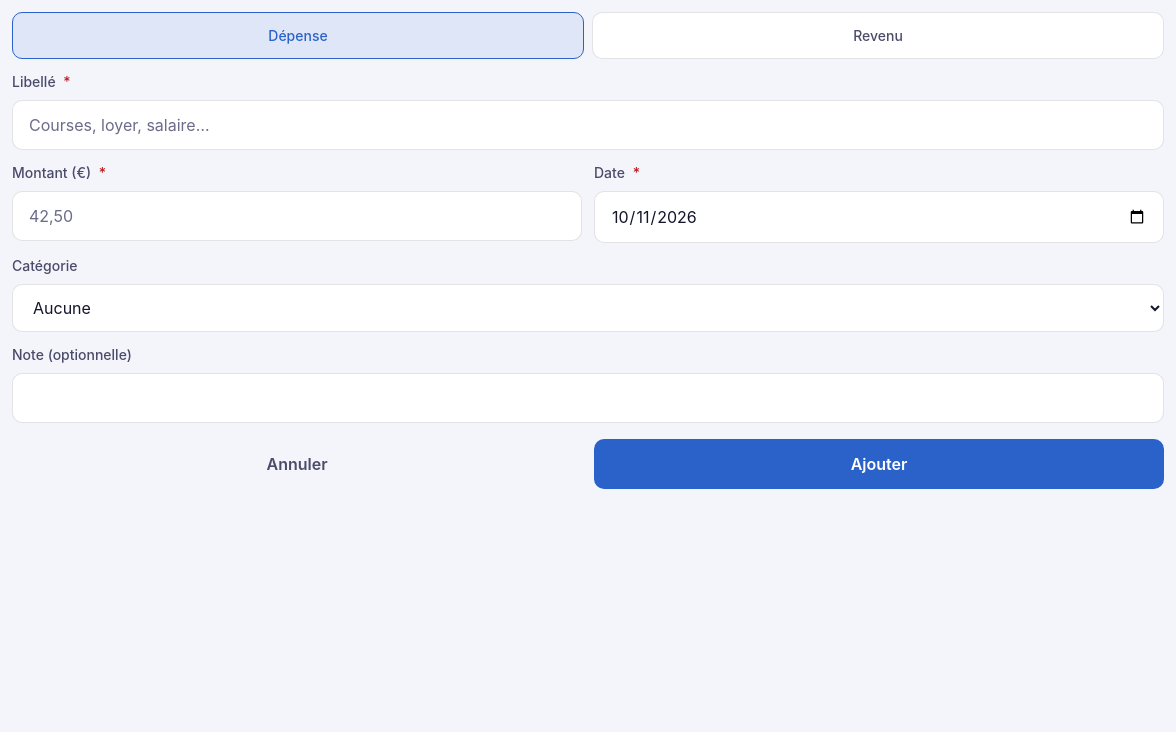
Test case: TransactionForm — création › affiche l'erreur de l'API sans prévenir le parent
The image size is (1176, 732).
Type "Café" into the field with id "transaction-title" at (588, 125), box [12,100,1164,150]
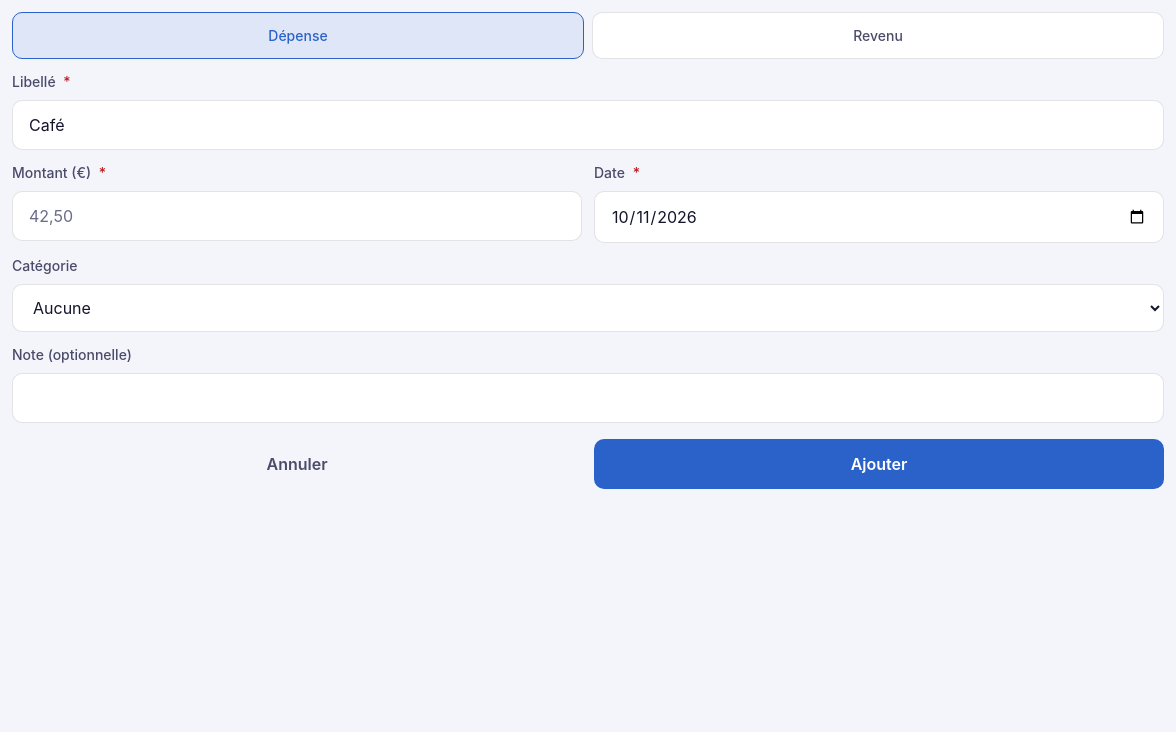
Type "3,50" into the field with id "transaction-amount" at (297, 216), box [12,191,582,241]
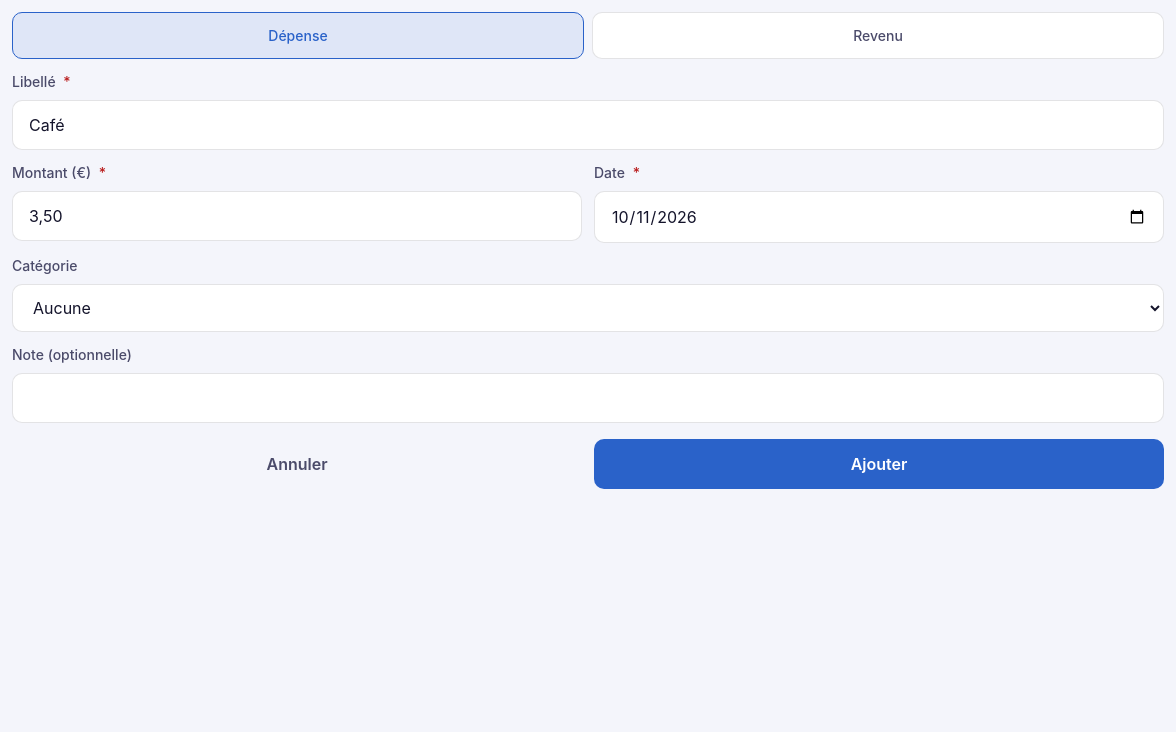
Submit the form
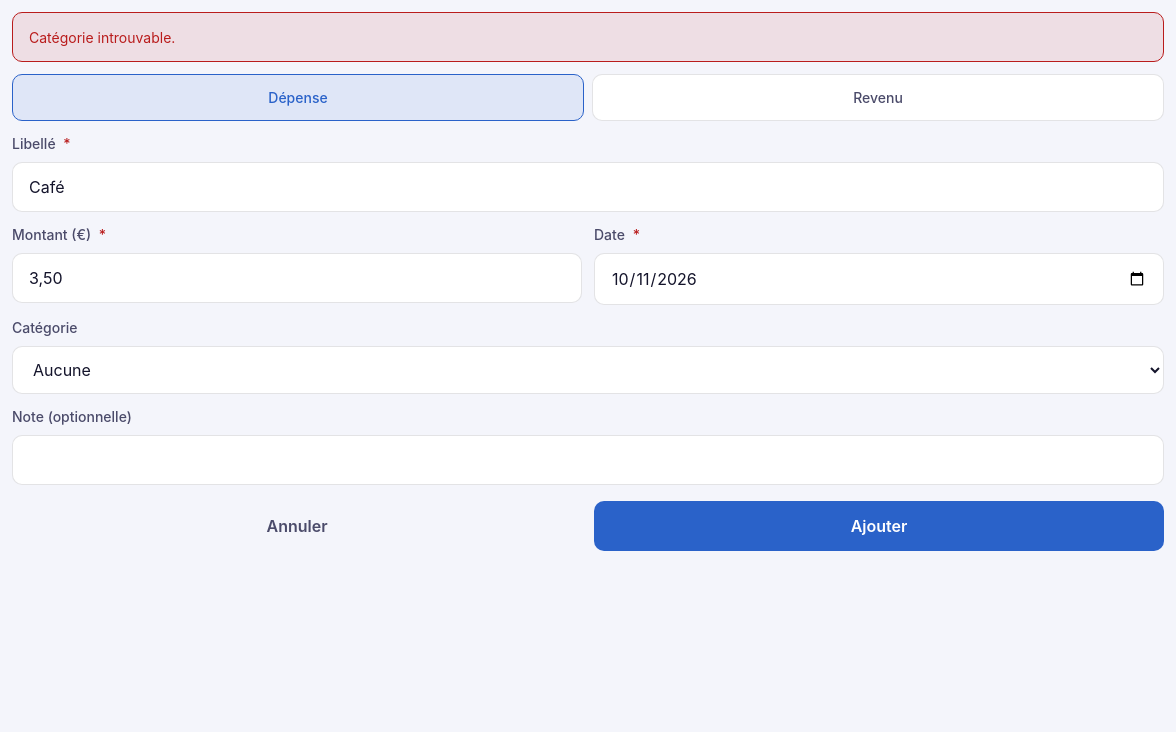
Result: the message "Catégorie introuvable." is shown at [12,12,1164,62]
